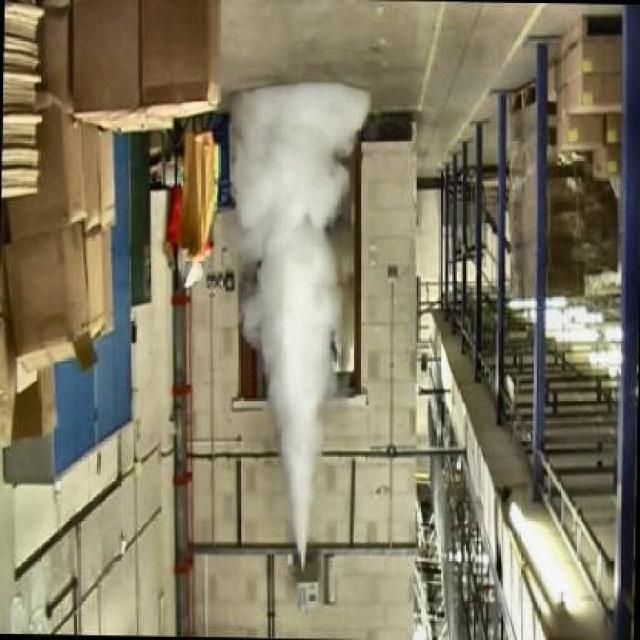smoke: (222, 87, 348, 576)
